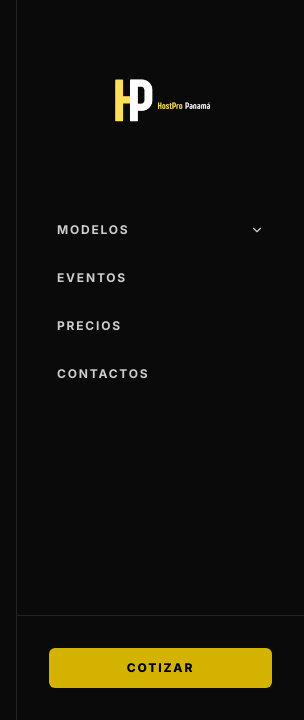
Header — compact mobile navigation › Modelos accordion › expands and preserves all submenu destinations
Click the button with aria-label "ver catálogo de modelos" at (160, 230), box [49,208,272,252]
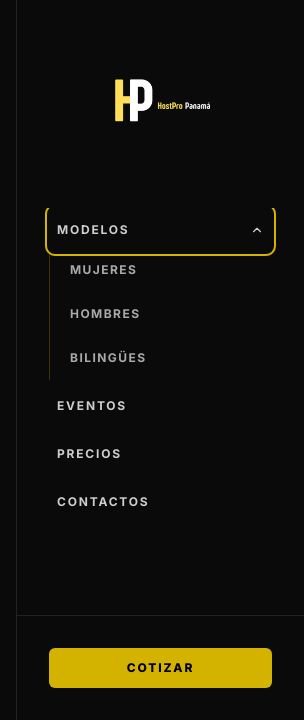
Check: the button with aria-label "ver catálogo de modelos" is expanded, box [49,208,272,252]
